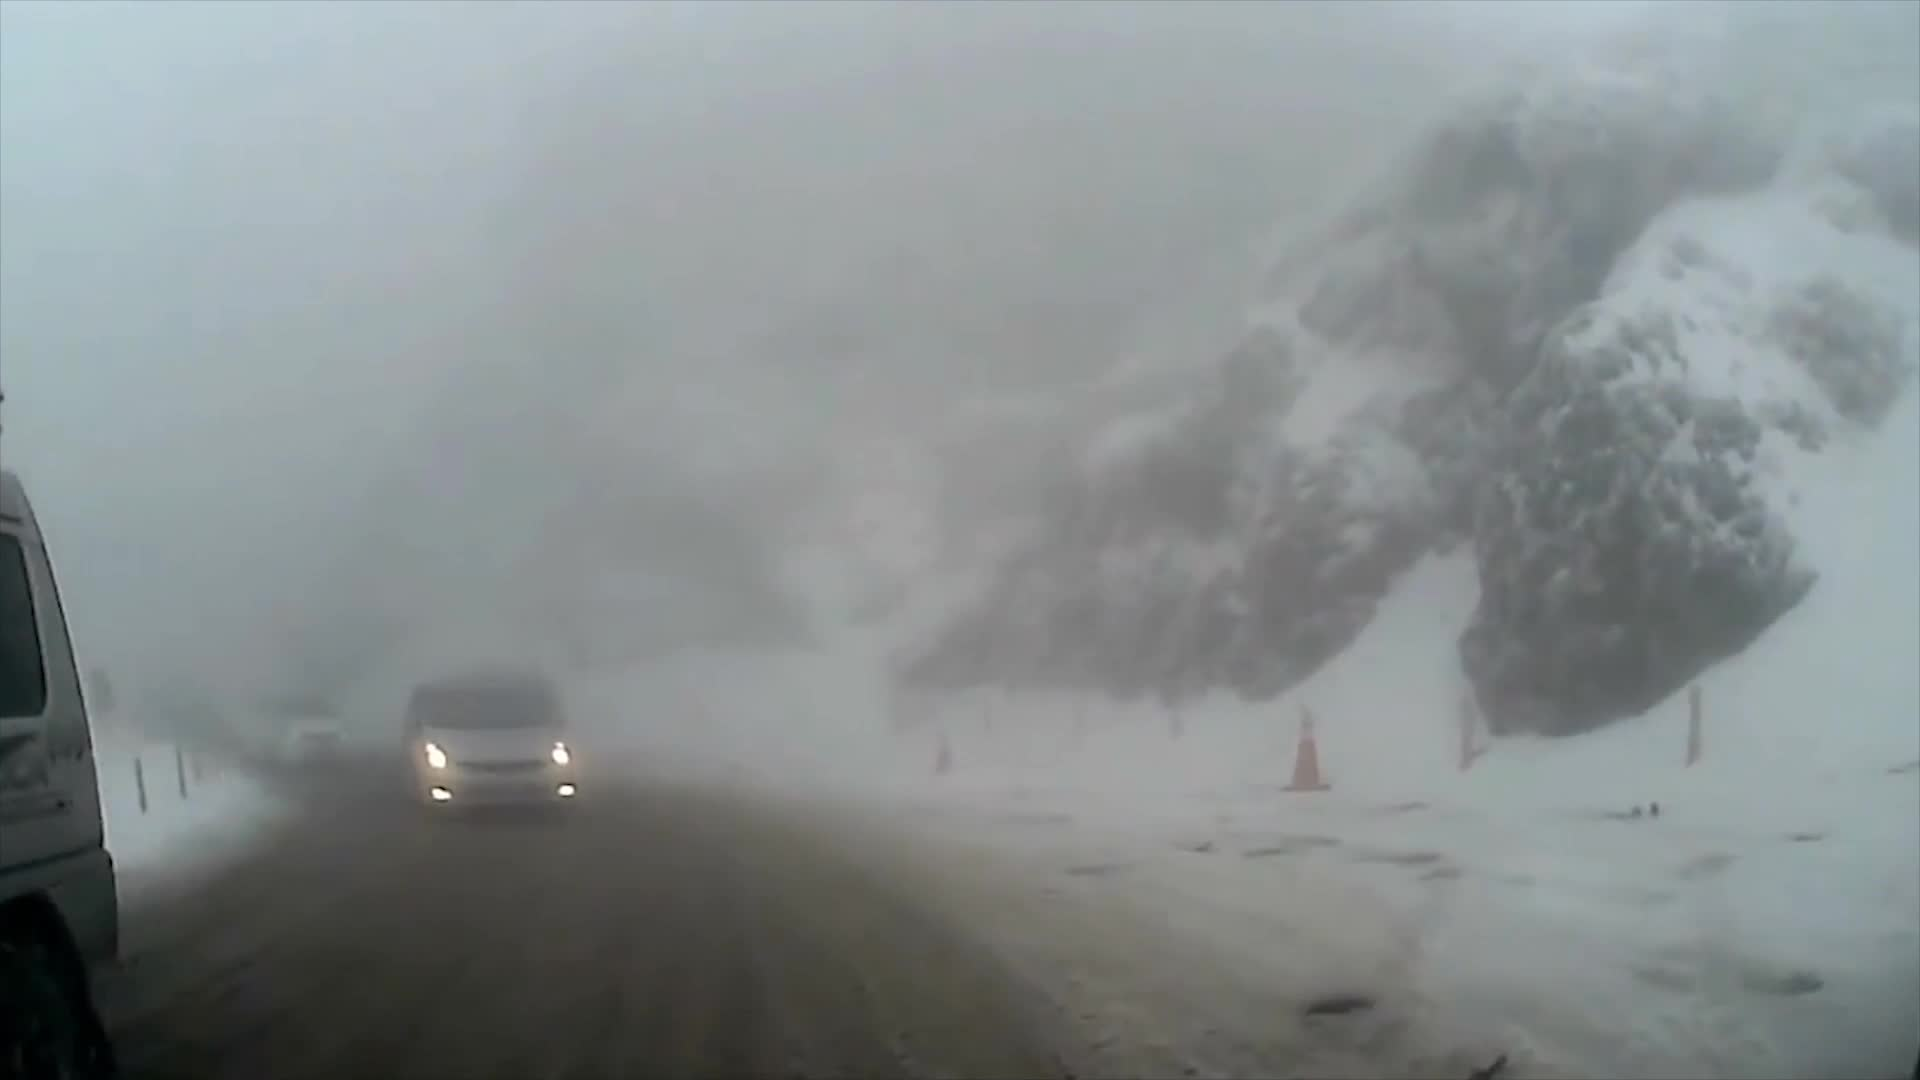vehicle: (0, 396, 123, 1080), (390, 676, 572, 827)
